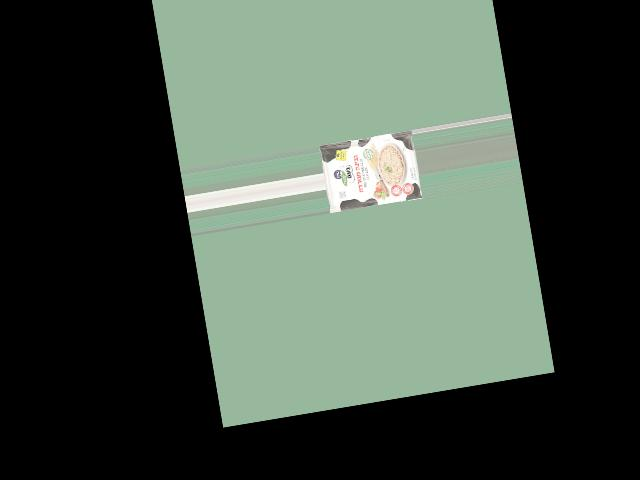cheese: (325, 129, 420, 224)
